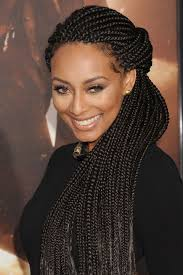black_female: (34, 7, 164, 149)
